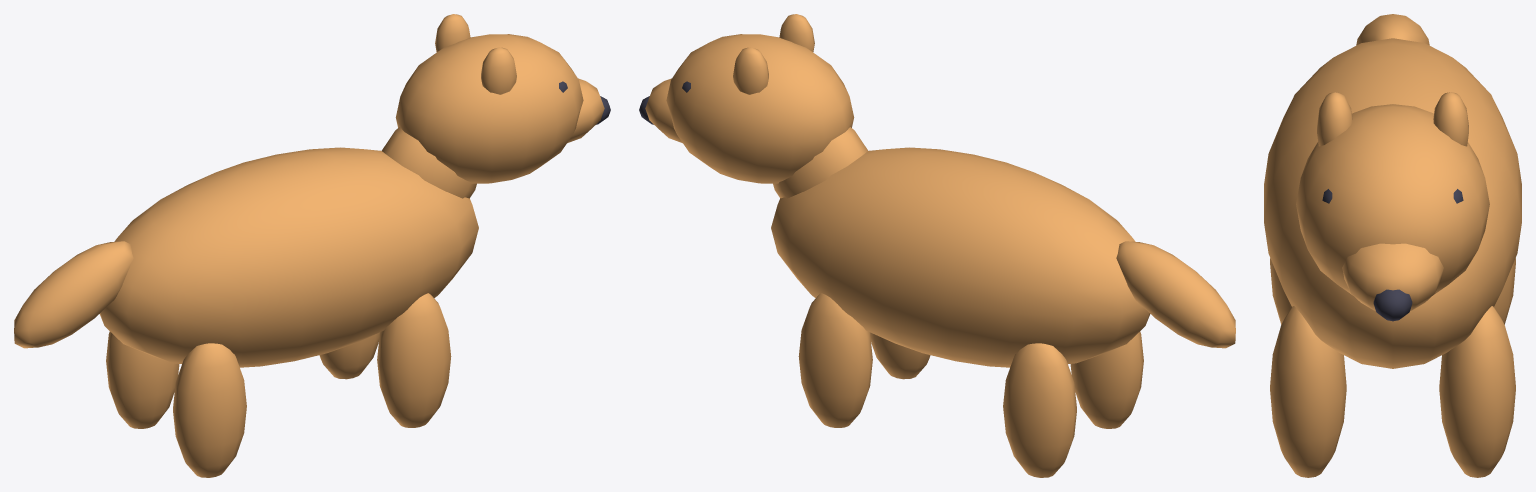
The model's file is fox.glb.
The picture shows the model from 3 angles, left to right: view 1: azimuth 30°, elevation 25°; view 2: azimuth 150°, elevation 25°; view 3: azimuth 270°, elevation 25°; orthographic projection. The views are drawn at different scales.
Visible parts, largest first — view 1: Body, Head, LegBackLeft, LegFrontLeft, Tail, LegBackRight, Neck, LegFrontRight, EarLeft, Snout, EarRight; view 2: Body, Head, LegBackRight, LegFrontRight, Tail, LegBackLeft, Neck, LegFrontLeft, EarRight, Snout, EarLeft; view 3: Body, Head, LegFrontLeft, LegFrontRight, Snout, Tail, EarLeft, EarRight, Nose, LegBackLeft, LegBackRight.
Boxes of the visible parts, <box> form: Body: <box>100,147,478,367</box>; Head: <box>395,34,583,183</box>; LegBackLeft: <box>173,343,246,477</box>; LegFrontLeft: <box>377,293,451,427</box>; Tail: <box>14,241,133,348</box>; LegBackRight: <box>106,331,179,428</box>; Neck: <box>381,127,476,198</box>; LegFrontRight: <box>319,332,379,379</box>; EarLeft: <box>481,47,516,94</box>; Snout: <box>567,78,604,143</box>; EarRight: <box>435,14,470,51</box>; Body: <box>771,147,1149,367</box>; Head: <box>666,34,854,183</box>; LegBackRight: <box>1003,343,1076,477</box>; LegFrontRight: <box>798,293,872,427</box>; Tail: <box>1116,241,1235,348</box>; LegBackLeft: <box>1070,331,1143,428</box>; Neck: <box>773,127,868,198</box>; LegFrontLeft: <box>870,332,930,379</box>; EarRight: <box>733,47,768,94</box>; Snout: <box>645,78,682,143</box>; EarLeft: <box>779,14,814,51</box>; Body: <box>1264,38,1521,368</box>; Head: <box>1296,104,1489,294</box>; LegFrontLeft: <box>1270,306,1346,477</box>; LegFrontRight: <box>1439,306,1515,477</box>; Snout: <box>1342,243,1443,310</box>; Tail: <box>1356,14,1429,45</box>; EarLeft: <box>1317,92,1352,146</box>; EarRight: <box>1433,92,1468,146</box>; Nose: <box>1373,289,1412,321</box>; LegBackLeft: <box>1270,258,1291,324</box>; LegBackRight: <box>1494,258,1515,324</box>.
Bounding box in the file's own units: 1.92 × 1.08 × 0.5692.
